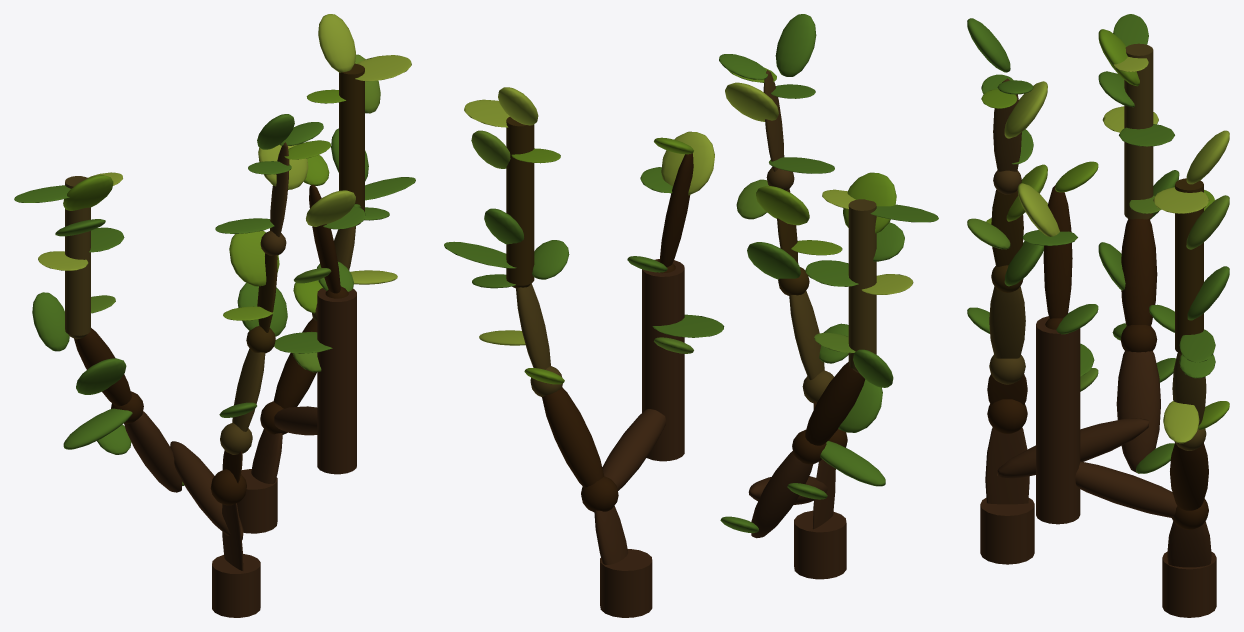
Rendered from CMU3DRMCBushd1.glb.
3 views of the same model, side by side, from view 1: azimuth 30°, elevation 25°; view 2: azimuth 150°, elevation 25°; view 3: azimuth 270°, elevation 25° (orthographic). The views are drawn at different scales.
Visible parts, largest first — view 1: visible stem 3 section 0, visible stem 2 section 3, visible stem 1 section 2, rounded root base 0, visible stem 1 section 0, fork depth rising branch 1, rounded root base 2, source leaf patch 19, source leaf patch 5, source leaf patch 26, visible stem 2 section 1, visible stem 1 section 1 (+32 smaller); view 2: visible stem 3 section 0, visible stem 1 section 2, visible stem 2 section 3, rounded root base 0, visible stem 2 section 1, rounded root base 2, fork depth rising branch 3, visible stem 1 section 1, visible stem 1 section 0, visible stem 3 section 1, source leaf patch 0, visible stem 2 section 2 (+28 smaller); view 3: visible stem 3 section 0, visible stem 1 section 2, visible stem 1 section 0, visible stem 1 section 1, visible stem 2 section 3, rounded root base 0, fork depth rising branch 3, rounded root base 2, fork depth rising branch 1, visible stem 3 section 1, visible stem 0 section 0, visible stem 0 section 2 (+44 smaller).
Boxes of the visible parts, x1,y1,x2,y2 form: visible stem 3 section 0: (317, 288, 356, 474); visible stem 2 section 3: (339, 63, 364, 211); visible stem 1 section 2: (65, 176, 90, 335); rounded root base 0: (212, 554, 260, 617); visible stem 1 section 0: (124, 411, 182, 492); fork depth rising branch 1: (170, 441, 243, 539); rounded root base 2: (237, 469, 277, 533); source leaf patch 19: (229, 230, 279, 286); source leaf patch 5: (318, 14, 355, 72); source leaf patch 26: (32, 292, 69, 351); visible stem 2 section 1: (273, 318, 317, 408); visible stem 1 section 1: (74, 328, 131, 406); visible stem 3 section 0: (642, 259, 684, 461); visible stem 1 section 2: (848, 199, 876, 369); visible stem 2 section 3: (506, 117, 534, 285); rounded root base 0: (794, 510, 846, 579); visible stem 2 section 1: (542, 387, 603, 487); rounded root base 2: (600, 549, 652, 617); fork depth rising branch 3: (602, 409, 666, 490); visible stem 1 section 1: (805, 362, 865, 445); visible stem 1 section 0: (751, 451, 813, 538); visible stem 3 section 1: (659, 153, 693, 267); source leaf patch 0: (775, 14, 816, 76); visible stem 2 section 2: (516, 283, 550, 369); visible stem 3 section 0: (1036, 316, 1080, 524); visible stem 1 section 2: (1124, 43, 1153, 219); visible stem 1 section 0: (1116, 350, 1160, 473); visible stem 1 section 1: (1121, 218, 1157, 325); visible stem 2 section 3: (1175, 178, 1203, 353); rounded root base 0: (980, 498, 1034, 564); fork depth rising branch 3: (1075, 461, 1177, 517); rounded root base 2: (1162, 551, 1216, 617); fork depth rising branch 1: (997, 418, 1149, 478); visible stem 3 section 1: (1043, 185, 1072, 318); visible stem 0 section 0: (985, 427, 1029, 504); visible stem 0 section 2: (989, 286, 1025, 358).
Size of the model in its own units: 0.5438 by 0.6008 by 0.2599.
